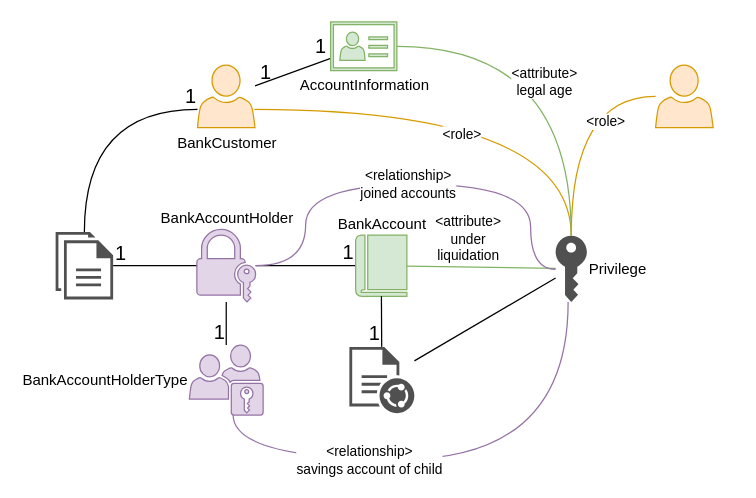
This 756x498 diagram has some shape labels left out. The shapes that lost their labels are listed below. From the top down, each one's box as (x1, y1, x2, y2) in pixels, then its label:
(654, 64, 713, 128): BankEmployee
(55, 231, 112, 299): BankContext
(349, 346, 414, 412): BankProduct
